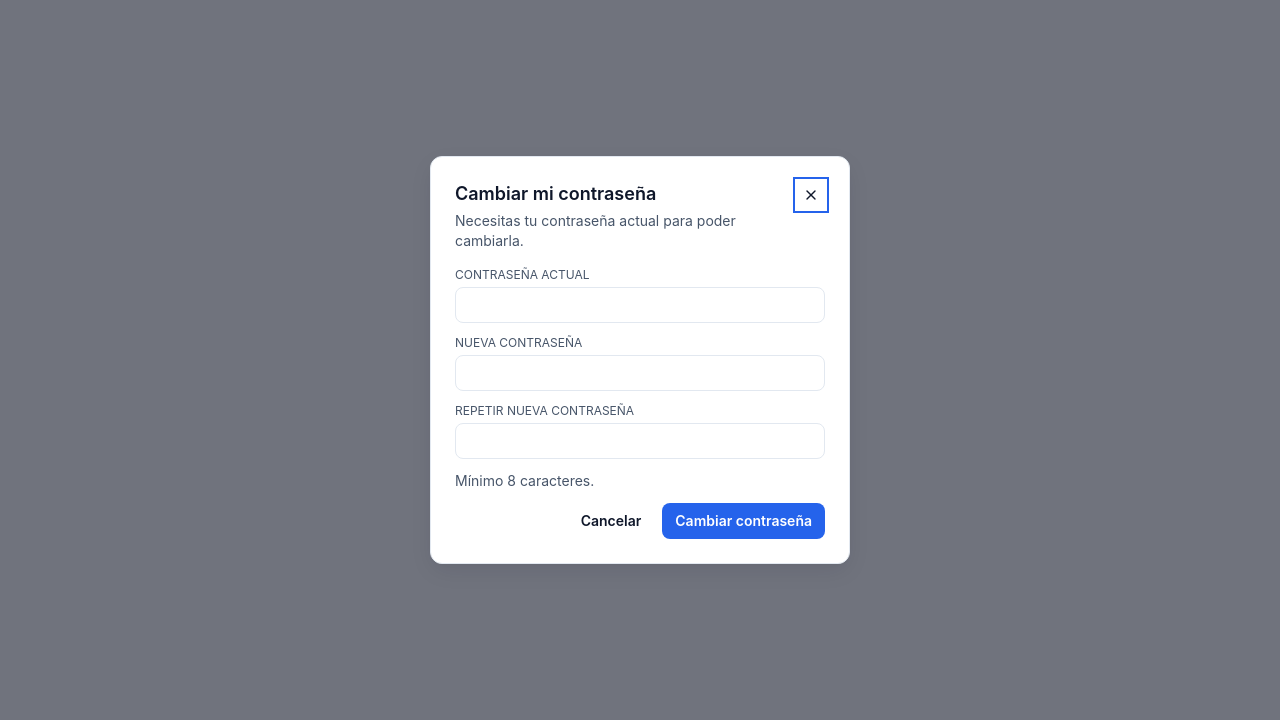
Test: adversarial · la contraseña › no se puede enviar con la validación saltada por Enter
This screenshot has width=1280, height=720.
Type "actual-1234" into the password field labelled "Contraseña actual".
click(640, 305); type("actual-1234")  # box [455,287,825,323]
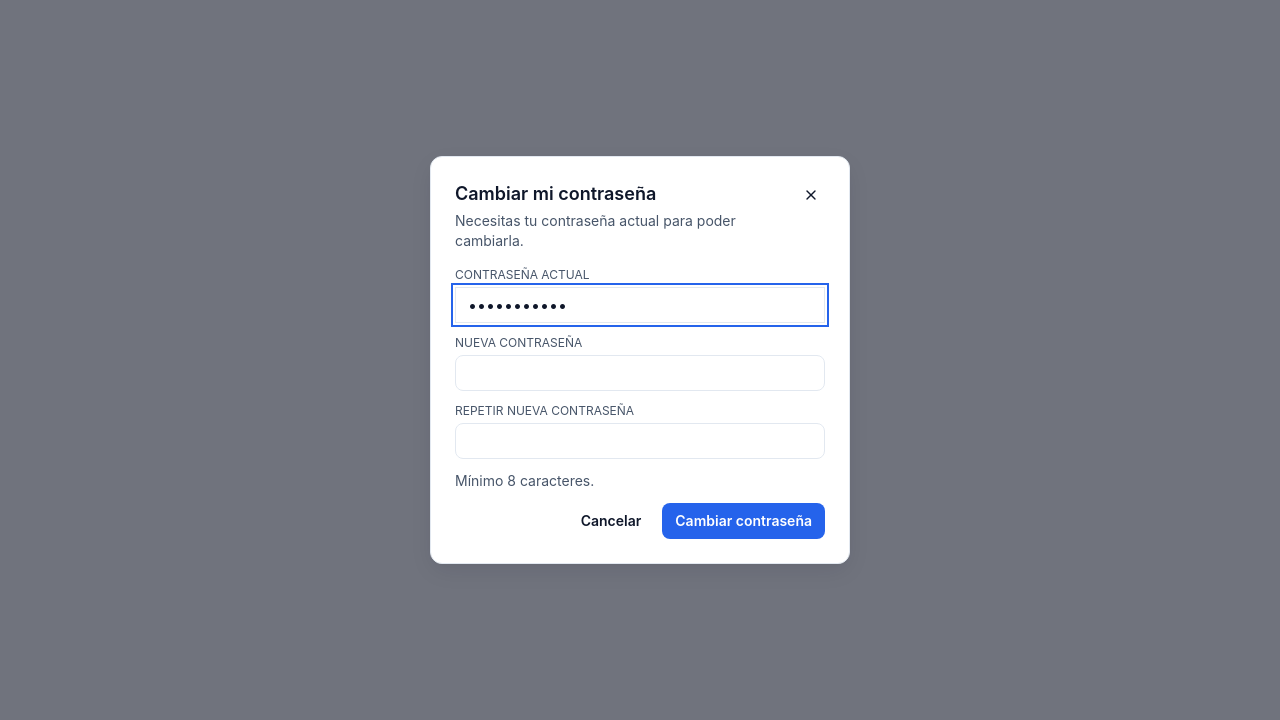
Type "corta" into the password field labelled "Nueva contraseña".
click(640, 373); type("corta")  # box [455,355,825,391]
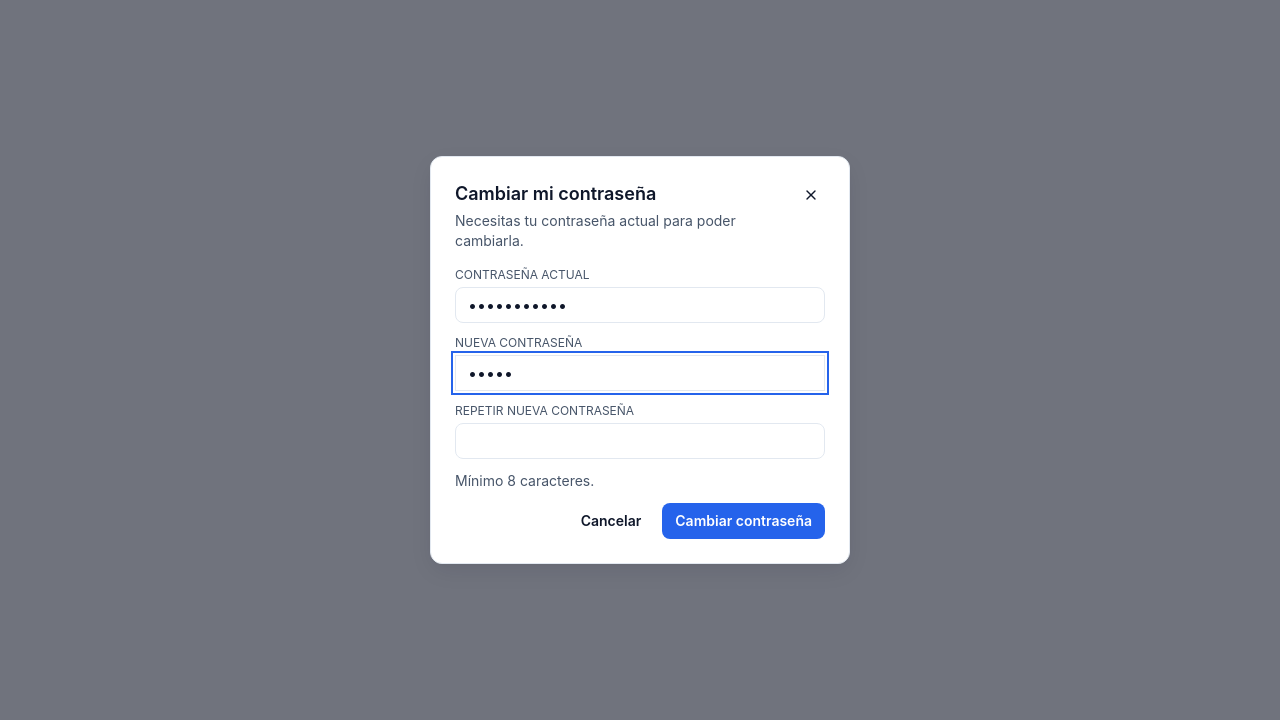
Type "corta" into the password field labelled "Repetir nueva contraseña".
click(640, 441); type("corta")  # box [455,423,825,459]
Then press Enter
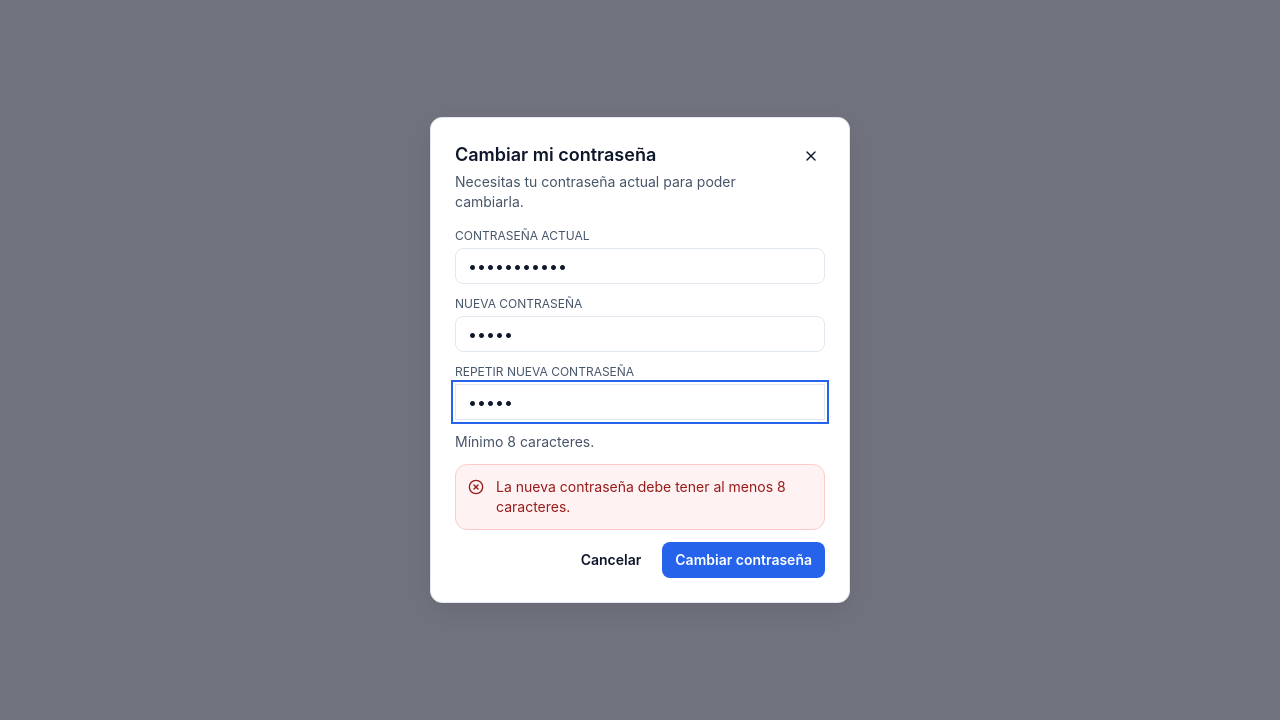
Expected: the message shows "8 caracteres", [496,478,786,515]
